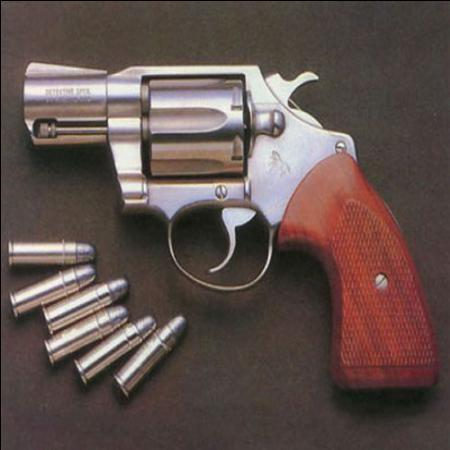Pistol: (18, 58, 438, 394)
